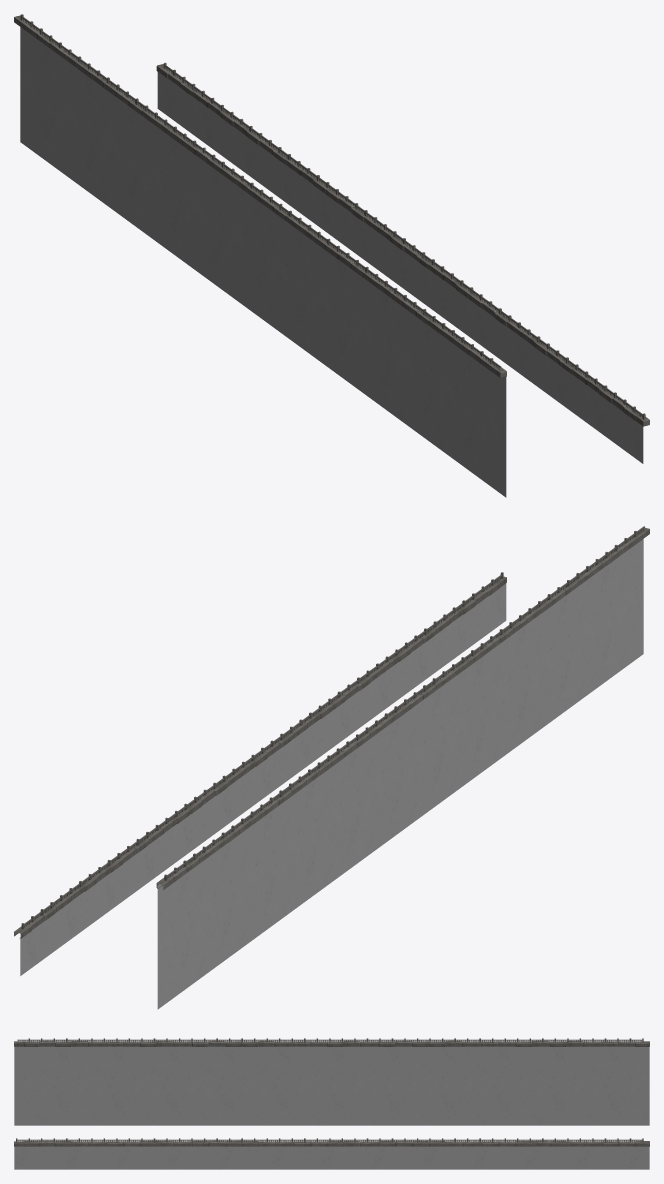
File: SM_ENV_KNVLLG_Wall_04.fbx
The picture shows the model from 3 angles, top to bottom: view 1: azimuth 30°, elevation 25°; view 2: azimuth 150°, elevation 25°; view 3: azimuth 270°, elevation 25°; orthographic projection. The views are drawn at different scales.
Visible parts, largest first — view 1: SM_ENV_KNVLLG_Wall_04.mo; view 2: SM_ENV_KNVLLG_Wall_04.mo; view 3: SM_ENV_KNVLLG_Wall_04.mo.
Part boxes in pixels (x1,y1,x2,y2): SM_ENV_KNVLLG_Wall_04.mo: [14, 14, 649, 497]; SM_ENV_KNVLLG_Wall_04.mo: [14, 526, 649, 1009]; SM_ENV_KNVLLG_Wall_04.mo: [14, 1038, 649, 1169].
Bounding box in the file's own units: 3346 × 2812 × 18817.
